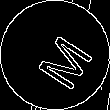M_NW: (21, 22, 89, 88)
